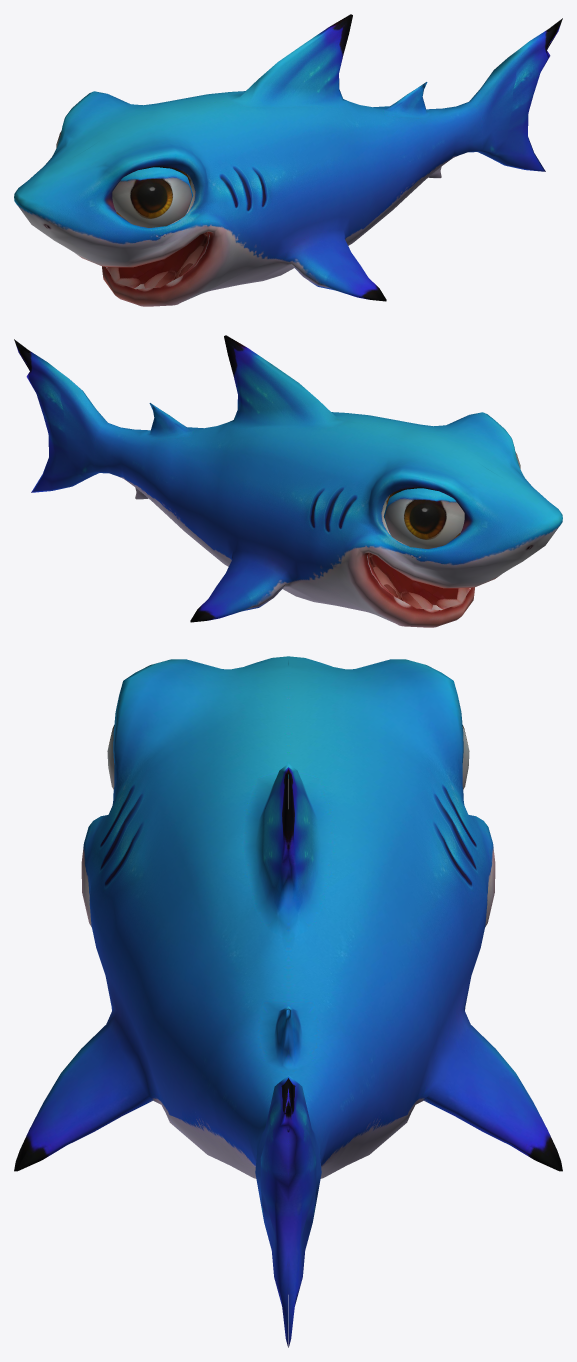
Rendered from Shark.glb.
The picture shows the model from 3 angles, top to bottom: view 1: azimuth 30°, elevation 25°; view 2: azimuth 150°, elevation 25°; view 3: azimuth 270°, elevation 25°; orthographic projection. The views are drawn at different scales.
Parts seen in each view (by area): view 1: Shark_low; view 2: Shark_low; view 3: Shark_low.
Boxes of the visible parts, x1,y1,x2,y2 form: Shark_low: (14,14,562,306); Shark_low: (14,335,562,627); Shark_low: (14,656,562,1347).
Bounding box in the file's own units: 0.9992 × 0.4241 × 0.4565.
1 material, 1 textured.
